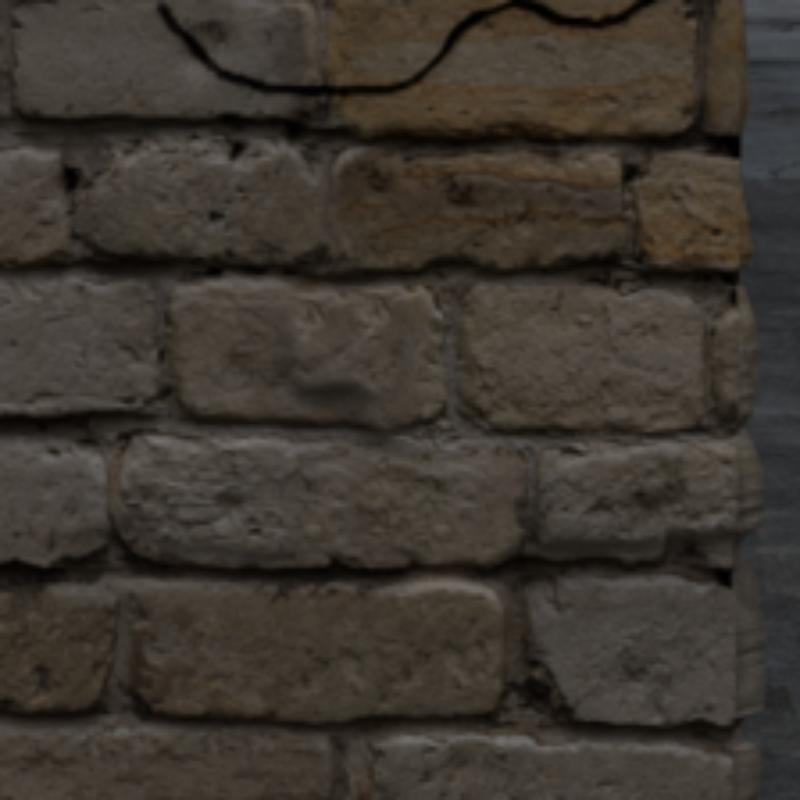pothole: (159, 1, 656, 94)
